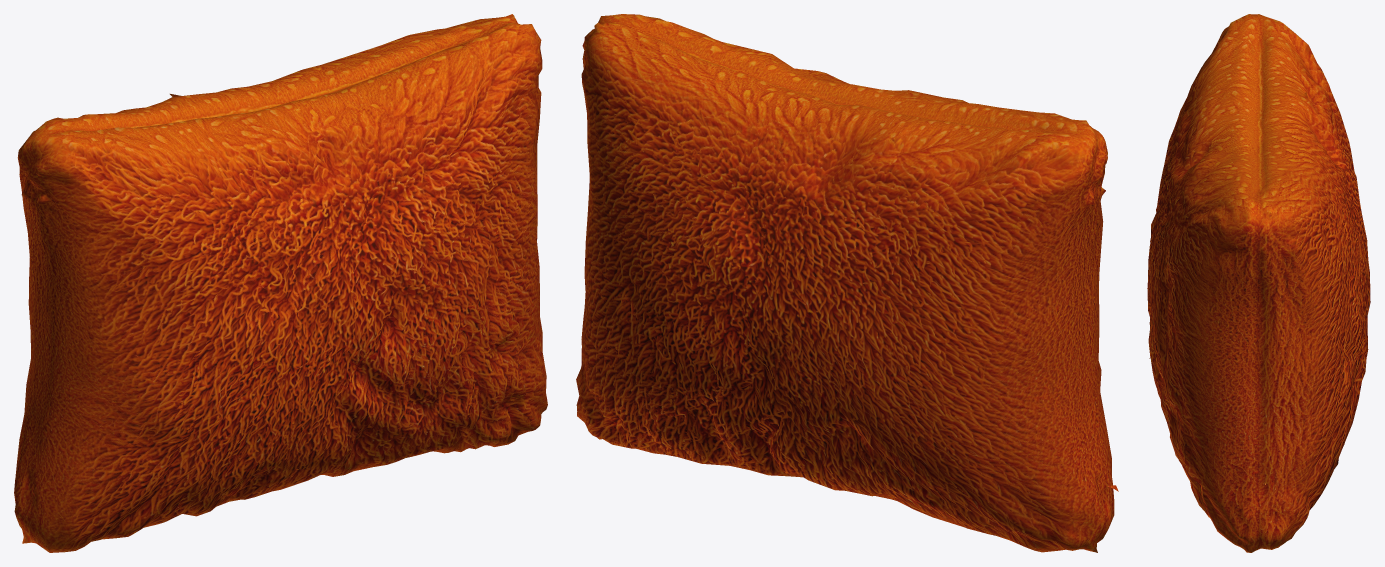
Rendered from tripo_convert_e5bc2c42-f41f-46cd-aebc-0c6418eecb28.fbx.
The picture shows the model from 3 angles, left to right: view 1: azimuth 30°, elevation 25°; view 2: azimuth 150°, elevation 25°; view 3: azimuth 270°, elevation 25°; orthographic projection. The views are drawn at different scales.
Visible parts, largest first — view 1: tripo_node_e5bc2c42; view 2: tripo_node_e5bc2c42; view 3: tripo_node_e5bc2c42.
Part boxes in pixels (x1,y1,x2,y2): tripo_node_e5bc2c42: (14,14,547,552); tripo_node_e5bc2c42: (576,14,1118,552); tripo_node_e5bc2c42: (1147,14,1370,552).
Size of the model in its own units: 0.9577 by 0.7247 by 0.424.
Materials: 1 (1 with a texture image).
